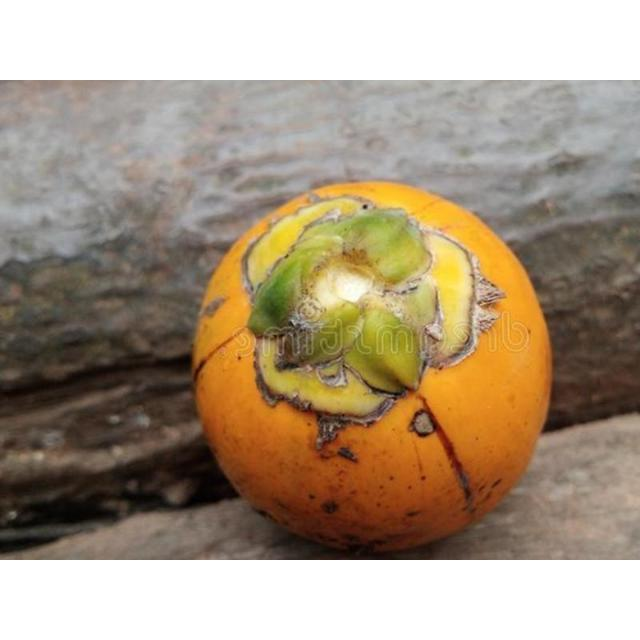good: (192, 182, 551, 550)
